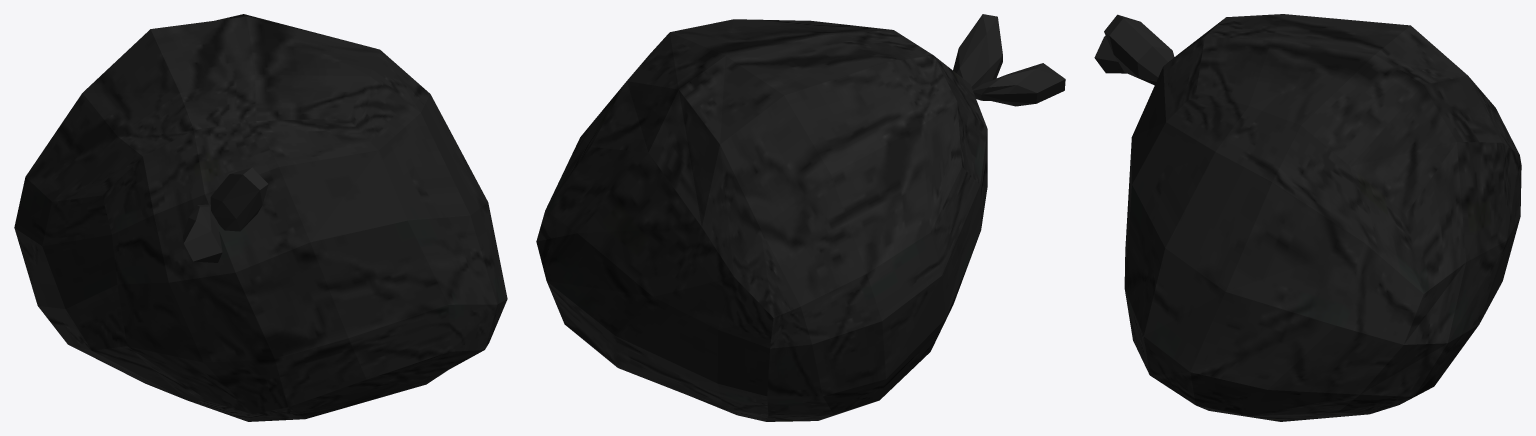
The model's file is strProp_21.glb.
3 renders of one model, left to right at view 1: azimuth 30°, elevation 25°; view 2: azimuth 150°, elevation 25°; view 3: azimuth 270°, elevation 25°, orthographic. The views are drawn at different scales.
Visible parts, largest first — view 1: geometry_0; view 2: geometry_0; view 3: geometry_0.
Boxes of the visible parts, x1,y1,x2,y2 form: geometry_0: (14, 14, 507, 421); geometry_0: (536, 14, 1065, 421); geometry_0: (1094, 14, 1521, 421).
Bounding box in the file's own units: 0.7102 × 0.588 × 0.7008.
1 material, 1 textured.
